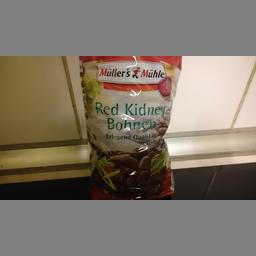beans: (76, 55, 182, 199)
